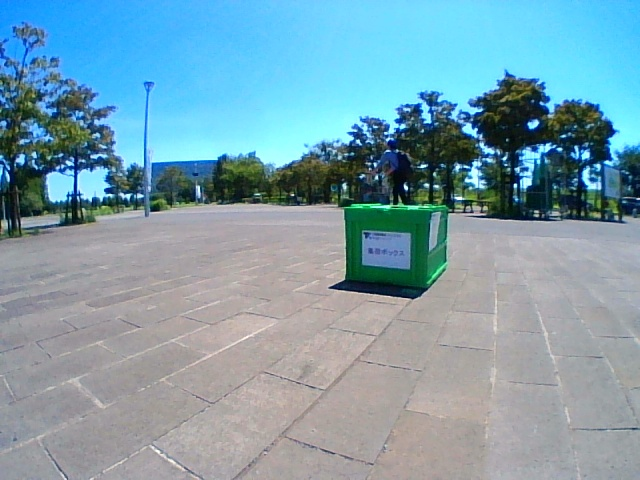green_box: (344, 202, 447, 289)
tag: (430, 214, 436, 248)
